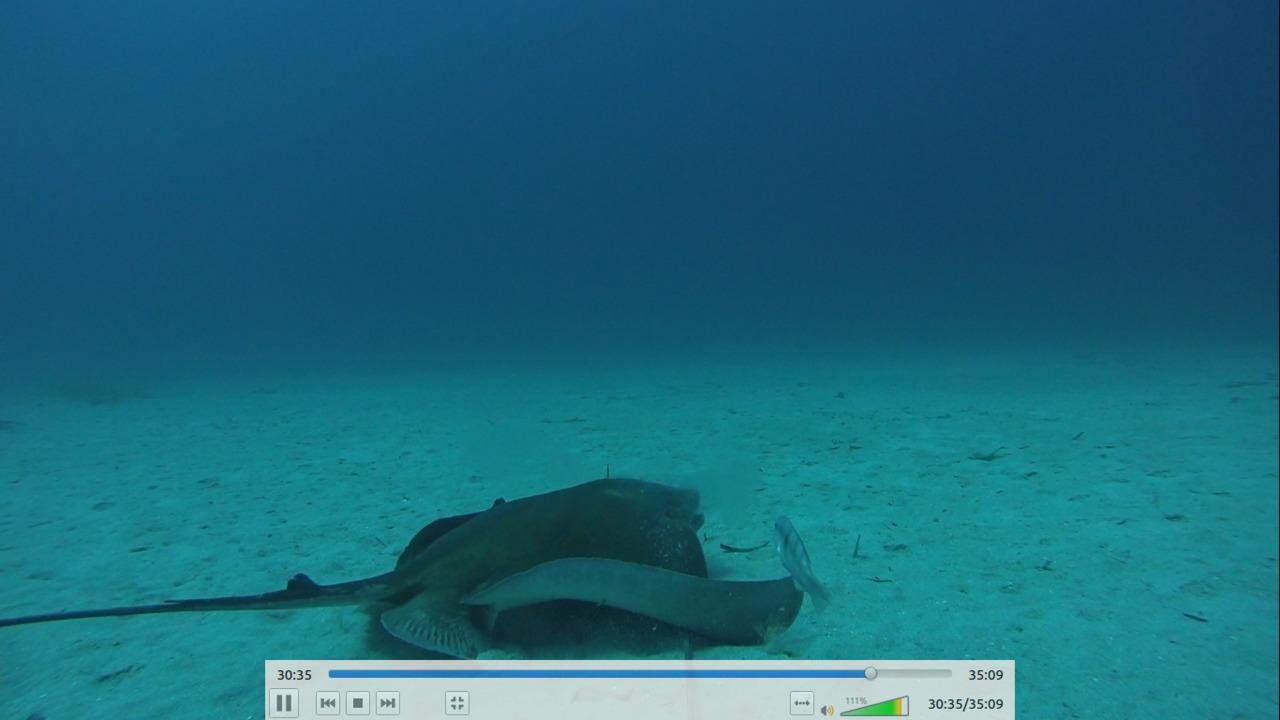myliobatis: (7, 476, 806, 658)
raor: (764, 507, 838, 619)
